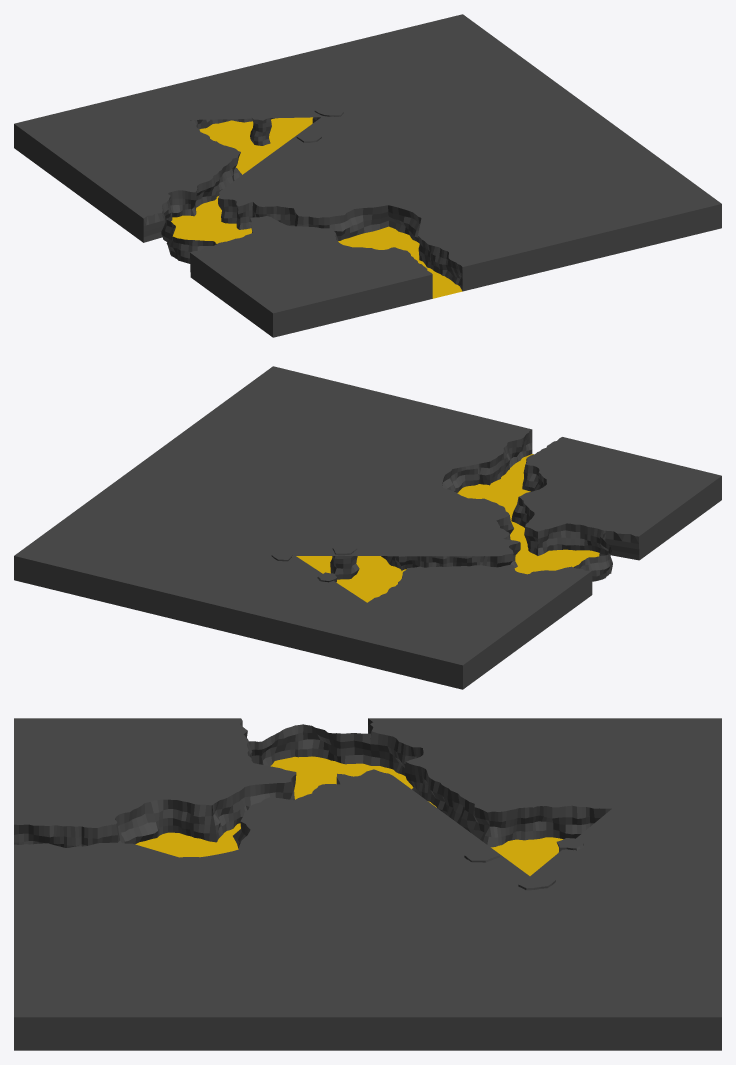
The model's file is wodnyswiat.fbx.
3 views of the same model, one above another, from view 1: azimuth 30°, elevation 25°; view 2: azimuth 150°, elevation 25°; view 3: azimuth 270°, elevation 25° (orthographic). The views are drawn at different scales.
Visible parts, largest first — view 1: Plane, Plane.001; view 2: Plane, Plane.001; view 3: Plane, Plane.001.
Part boxes in pixels (x1=…): Plane: x1=14, y1=14, x2=721, y2=337; Plane.001: x1=161, y1=215, x2=216, y2=263; Plane: x1=14, y1=366, x2=721, y2=689; Plane.001: x1=573, y1=532, x2=612, y2=581; Plane: x1=14, y1=718, x2=721, y2=1050; Plane.001: x1=249, y1=724, x2=371, y2=766.
Size of the model in its own units: 499 by 27.41 by 499.
